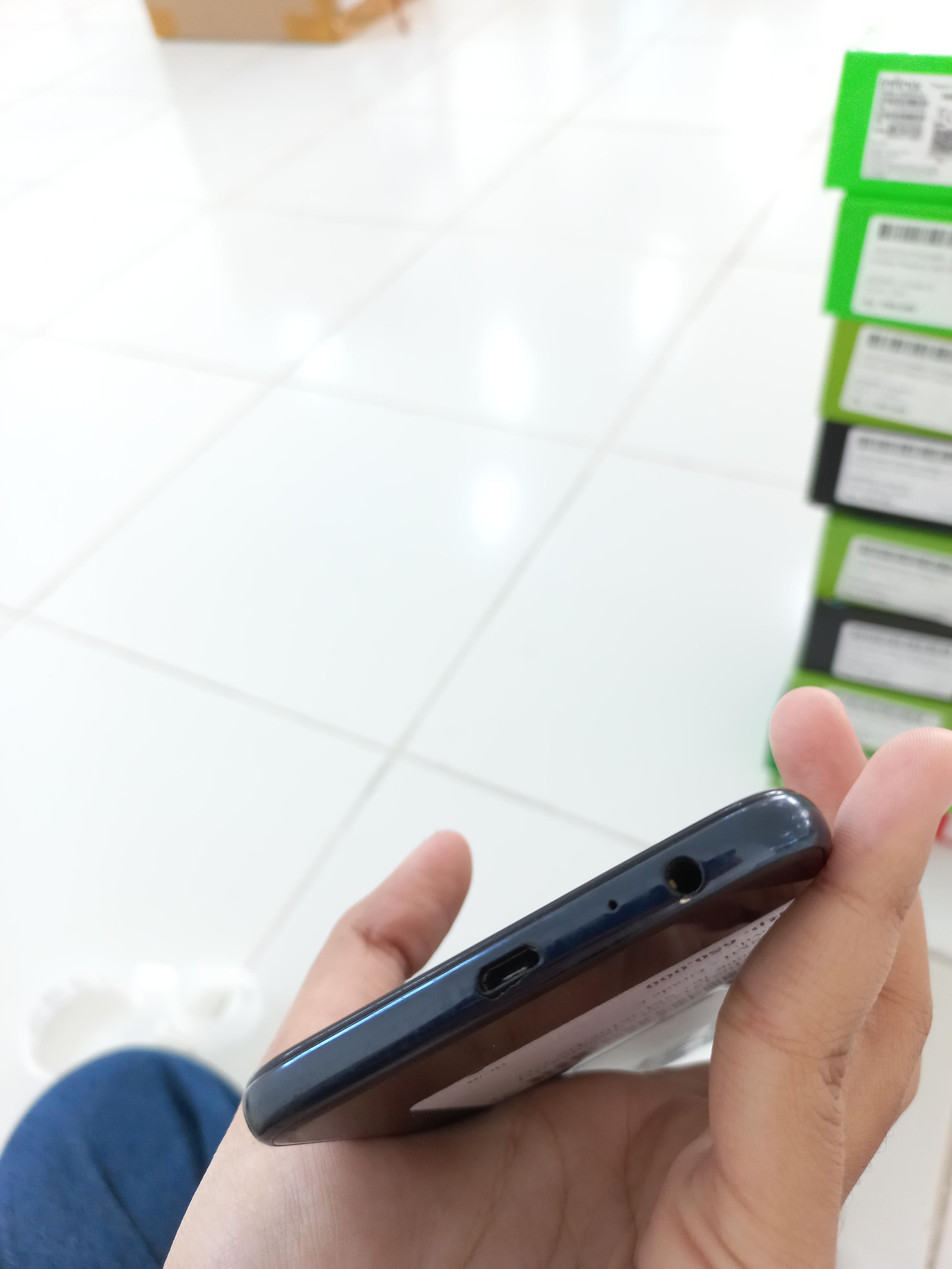phone good: (123, 719, 928, 1202)
